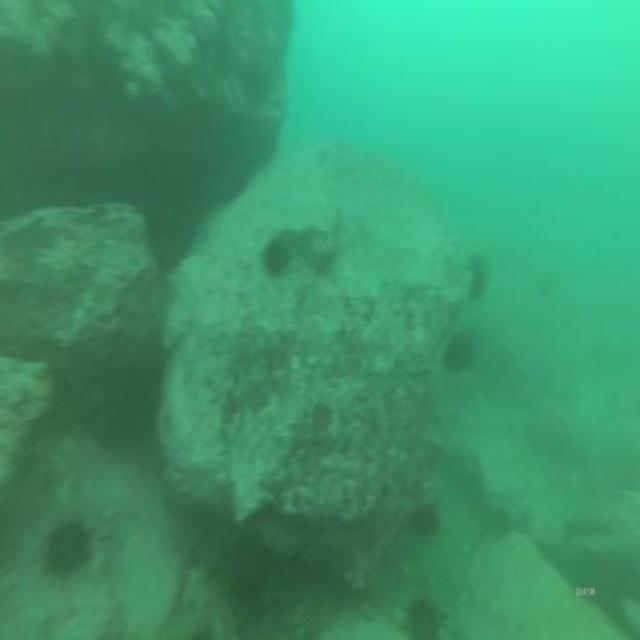echinus: (42, 515, 93, 582), (397, 591, 447, 640), (441, 327, 477, 375), (406, 500, 441, 546), (260, 234, 292, 283), (464, 246, 488, 306), (307, 398, 337, 442)
